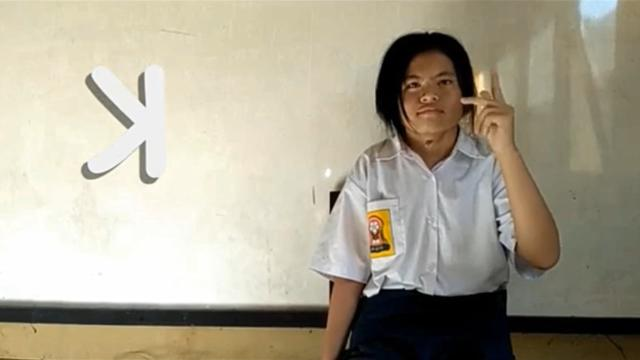K: (458, 68, 520, 148)
